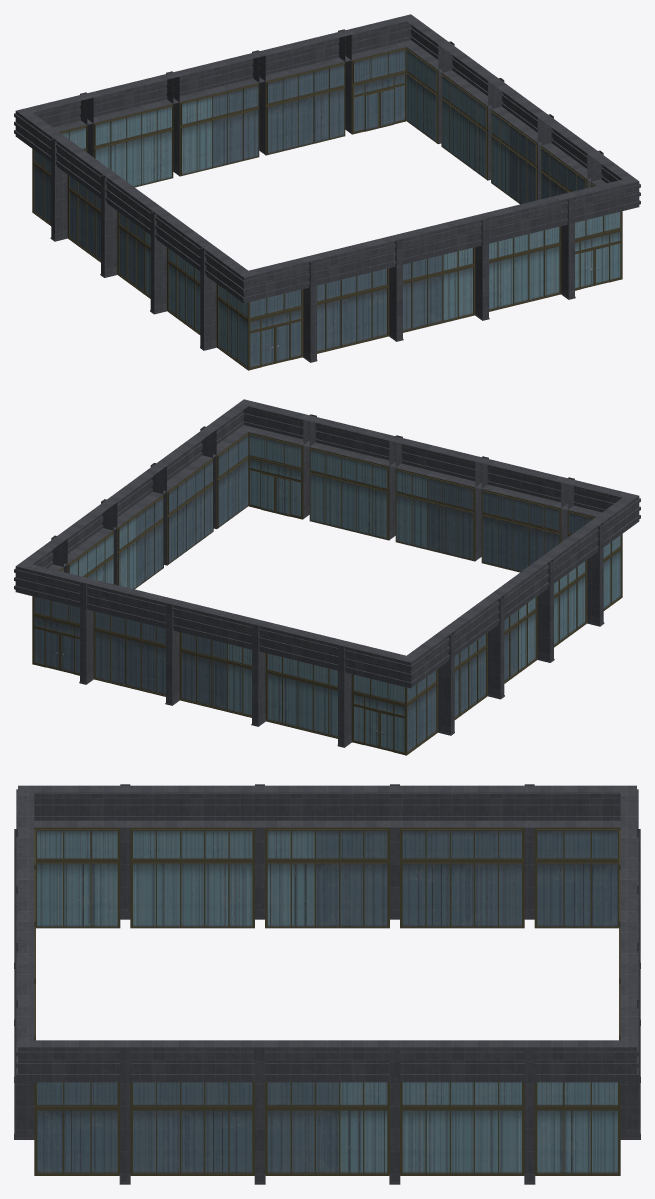
File: jctBld24_A_btm.fbx
3 renders of one model, top to bottom at view 1: azimuth 30°, elevation 25°; view 2: azimuth 150°, elevation 25°; view 3: azimuth 270°, elevation 25°, orthographic. The views are drawn at different scales.
Visible parts, largest first — view 1: jctBld24_A_btm_LOD0; view 2: jctBld24_A_btm_LOD0; view 3: jctBld24_A_btm_LOD0.
Boxes of the visible parts, left/top/right/bottom form: jctBld24_A_btm_LOD0: left=14, top=14, right=640, bottom=370; jctBld24_A_btm_LOD0: left=14, top=399, right=640, bottom=755; jctBld24_A_btm_LOD0: left=14, top=784, right=640, bottom=1184.
Bounding box in the file's own units: 2514 × 600 × 2514.
